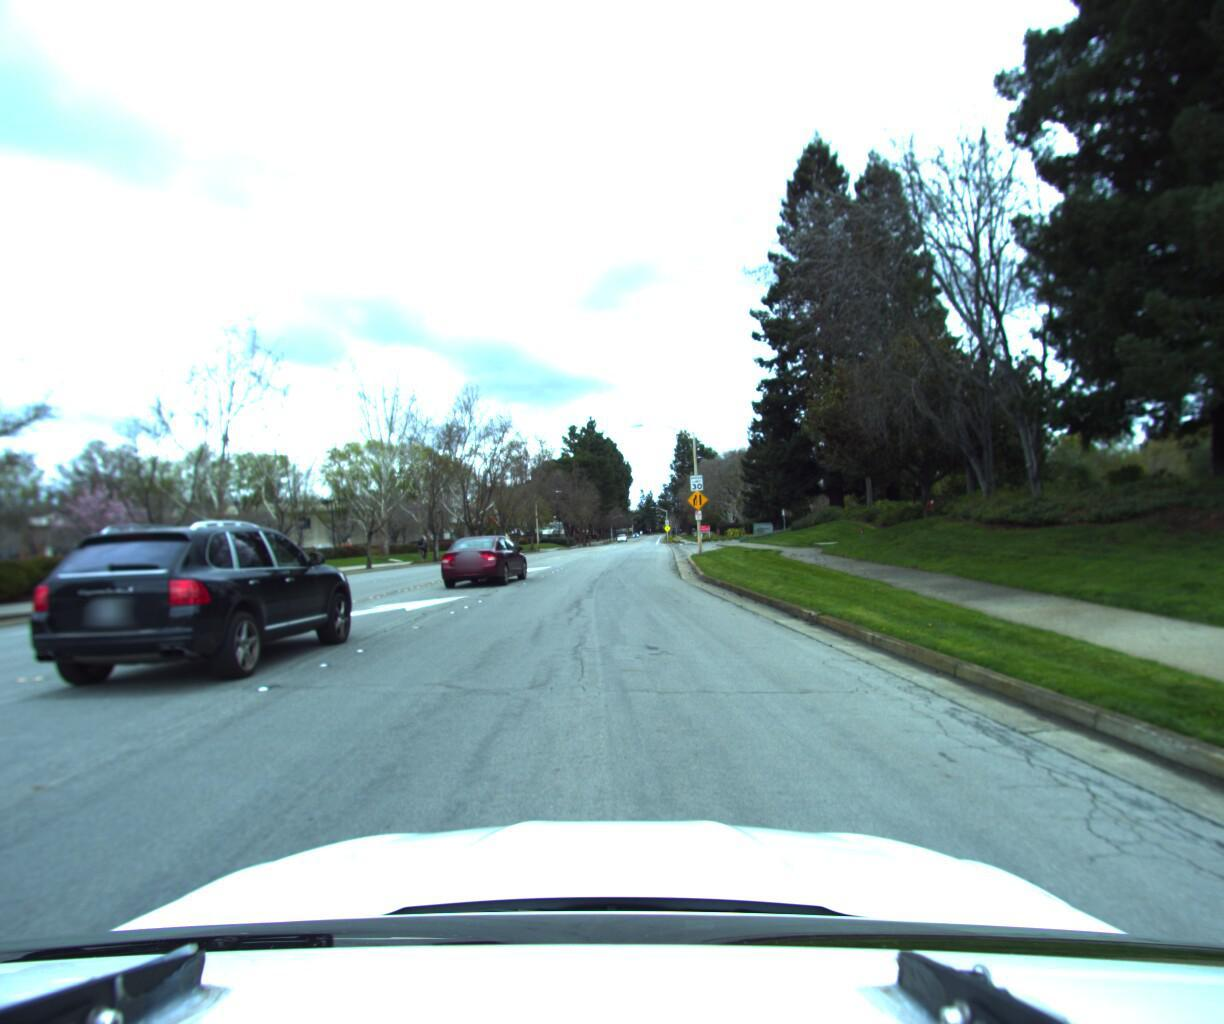car: (27, 520, 371, 697), (439, 530, 532, 588)
